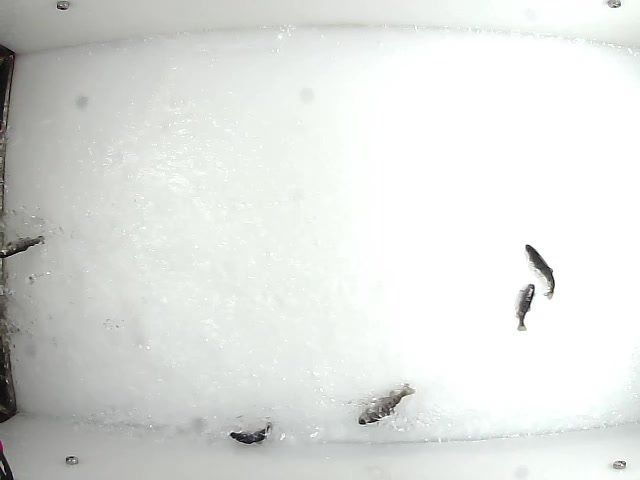fish: (355, 381, 416, 427), (523, 241, 556, 302), (224, 417, 276, 445), (515, 281, 536, 332)
